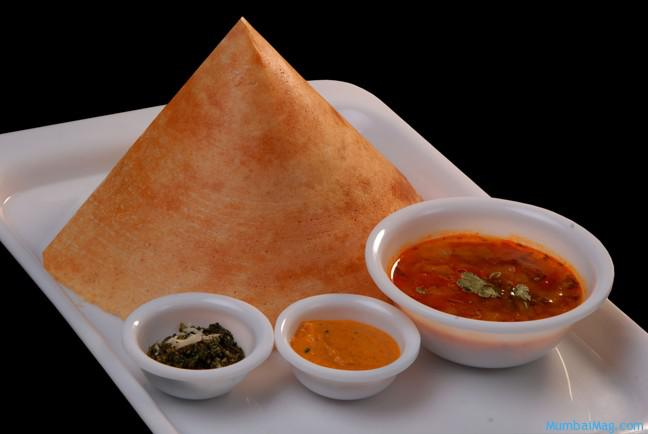dosa: (43, 16, 429, 318)
